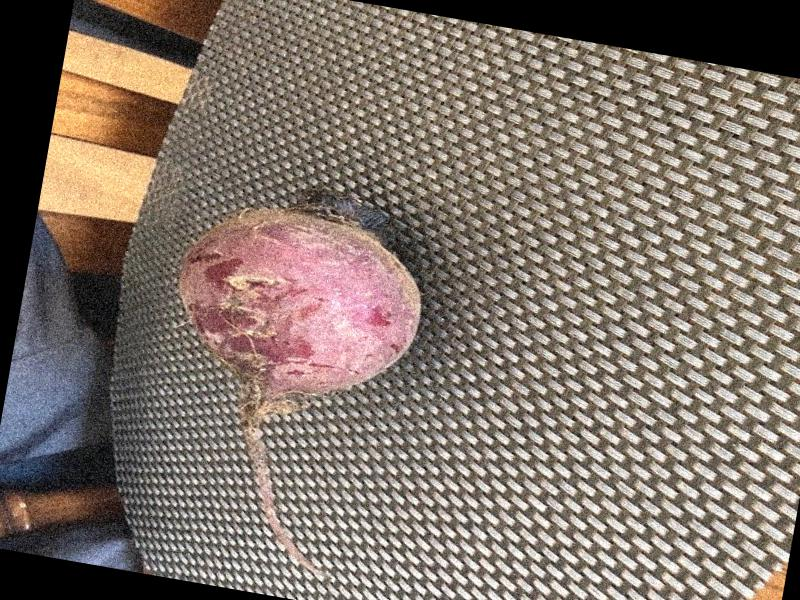Beet: (131, 162, 437, 580)
